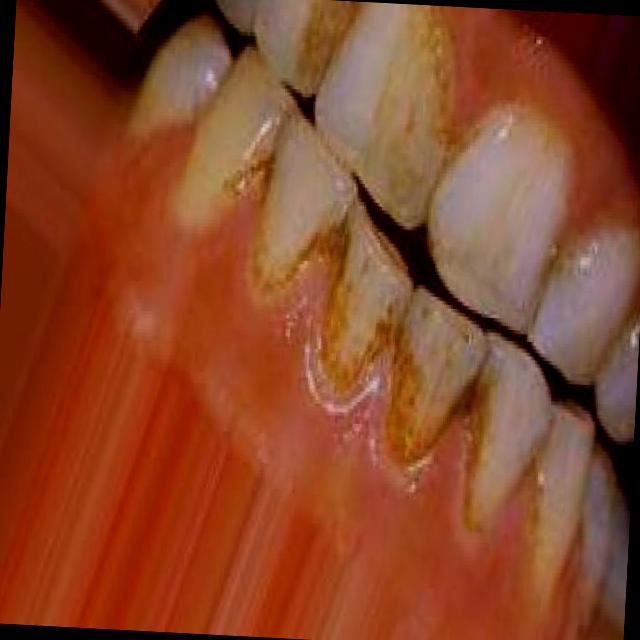calculus: (424, 79, 580, 328), (327, 5, 464, 247), (318, 192, 399, 404), (260, 115, 341, 312), (390, 278, 470, 472), (214, 37, 290, 234), (457, 352, 532, 528), (262, 0, 343, 102)
